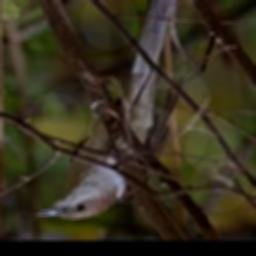Cuckoo: (39, 0, 186, 220)
